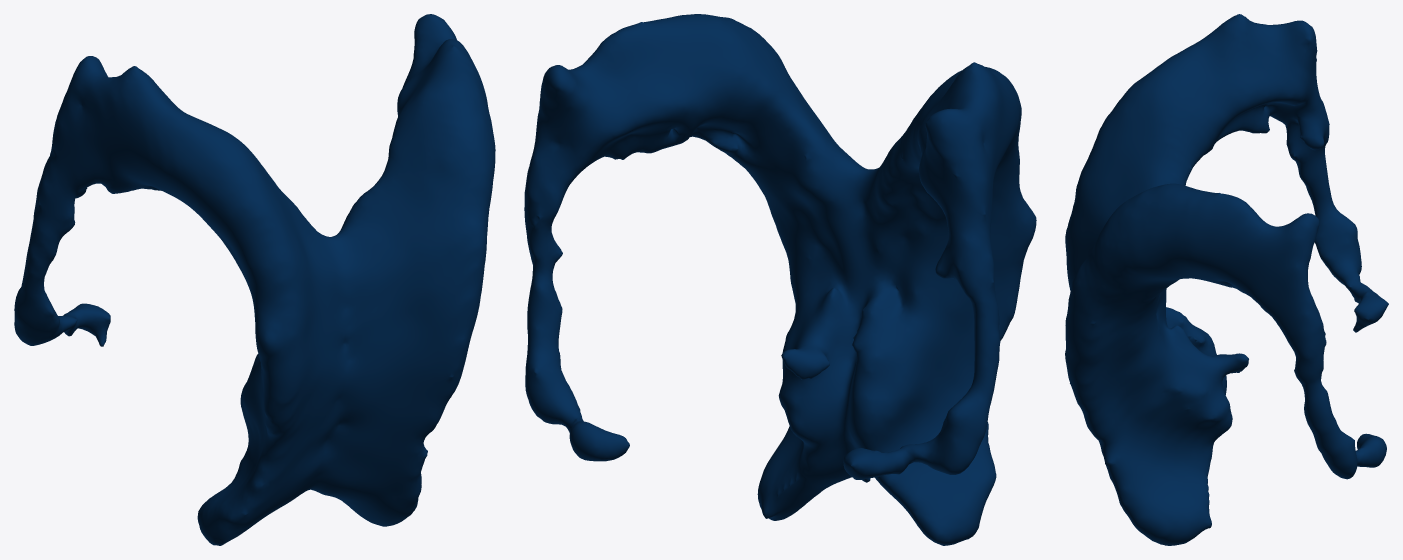
File: Ventricle.obj
The picture shows the model from 3 angles, left to right: view 1: azimuth 30°, elevation 25°; view 2: azimuth 150°, elevation 25°; view 3: azimuth 270°, elevation 25°; orthographic projection. The views are drawn at different scales.
Visible parts, largest first — view 1: grp1; view 2: grp1; view 3: grp1.
Boxes of the visible parts, box(x1,y1,x2,y2) form: grp1: box(14, 14, 495, 545); grp1: box(524, 14, 1036, 545); grp1: box(1065, 14, 1388, 545).
Size of the model in its own units: 78.59 by 85.01 by 56.96.
